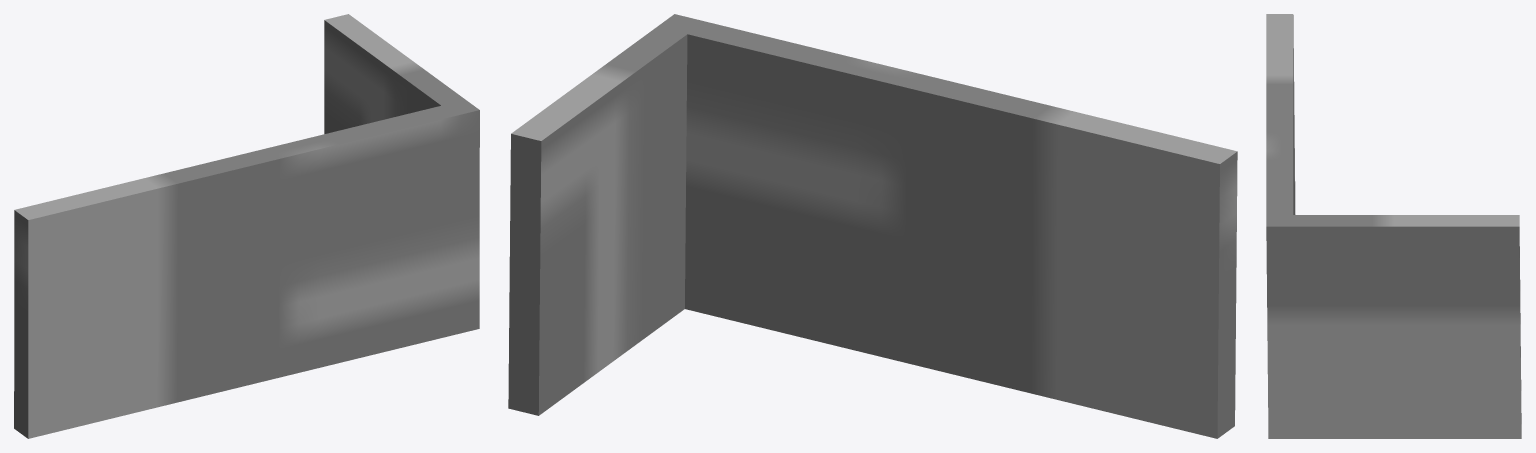
Rendered from prop_wall.fbx.
3 renders of one model, left to right at view 1: azimuth 30°, elevation 25°; view 2: azimuth 150°, elevation 25°; view 3: azimuth 270°, elevation 25°, orthographic. The views are drawn at different scales.
Visible parts, largest first — view 1: prop_wall; view 2: prop_wall; view 3: prop_wall.
Part boxes in pixels (box(x1,y1,x2,y2)): prop_wall: box(14, 14, 479, 438); prop_wall: box(508, 14, 1237, 438); prop_wall: box(1266, 14, 1521, 438).
Size of the model in its own units: 1778 by 825 by 901.
